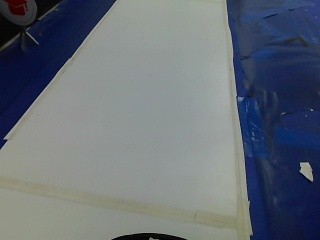school: (3, 0, 35, 22)
